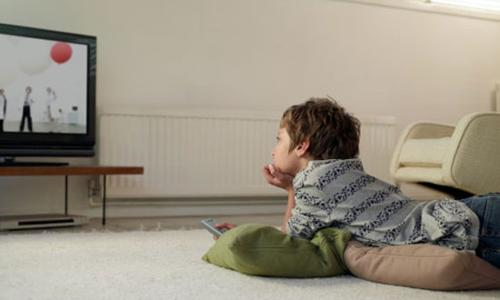person: (213, 95, 500, 265)
